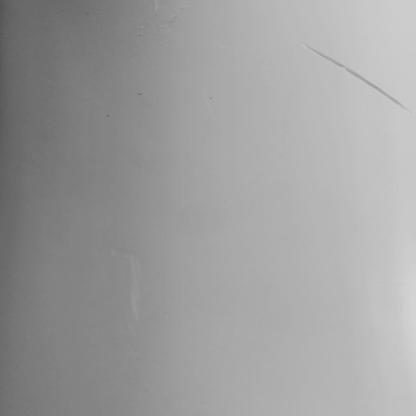sunshang: (304, 44, 408, 112)
